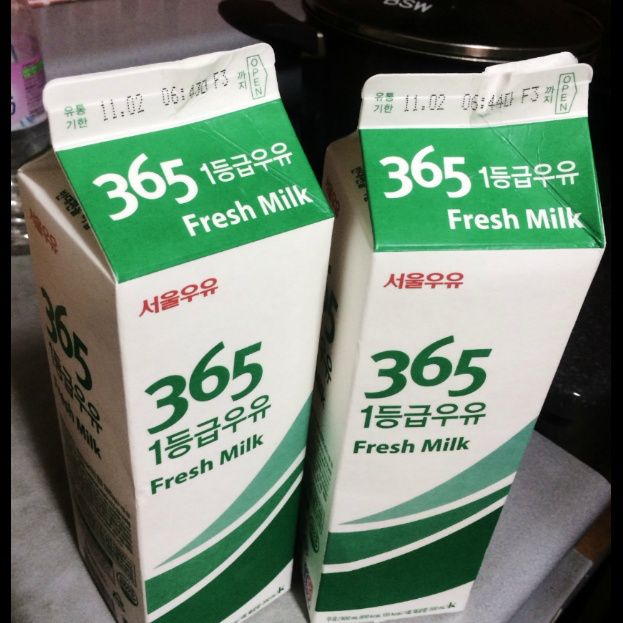milk: (18, 44, 333, 623), (310, 53, 608, 615)
